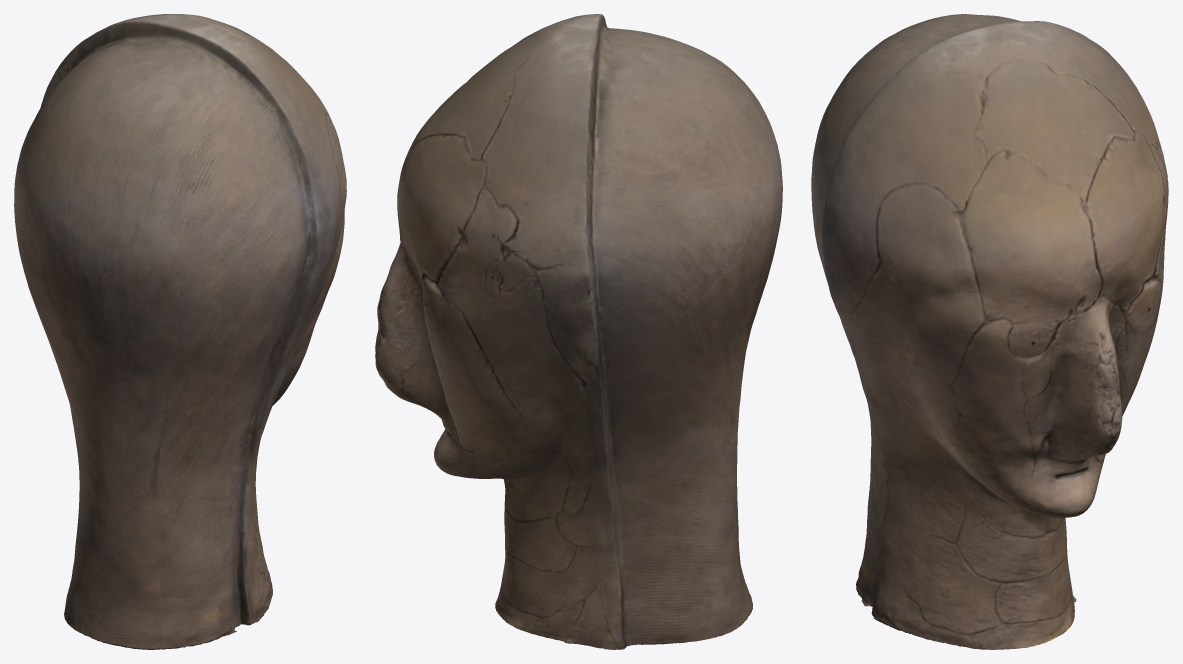
The model's file is shah-cracked-head.glb.
The picture shows the model from 3 angles, left to right: view 1: azimuth 30°, elevation 25°; view 2: azimuth 150°, elevation 25°; view 3: azimuth 270°, elevation 25°; orthographic projection. The views are drawn at different scales.
Parts seen in each view (by area): view 1: headC_Low; view 2: headC_Low; view 3: headC_Low.
Boxes of the visible parts, x1,y1,x2,y2 form: headC_Low: [14, 14, 346, 649]; headC_Low: [375, 14, 782, 649]; headC_Low: [811, 14, 1168, 649].
Size of the model in its own units: 19.32 by 33.09 by 18.41.
1 material, 1 textured.
